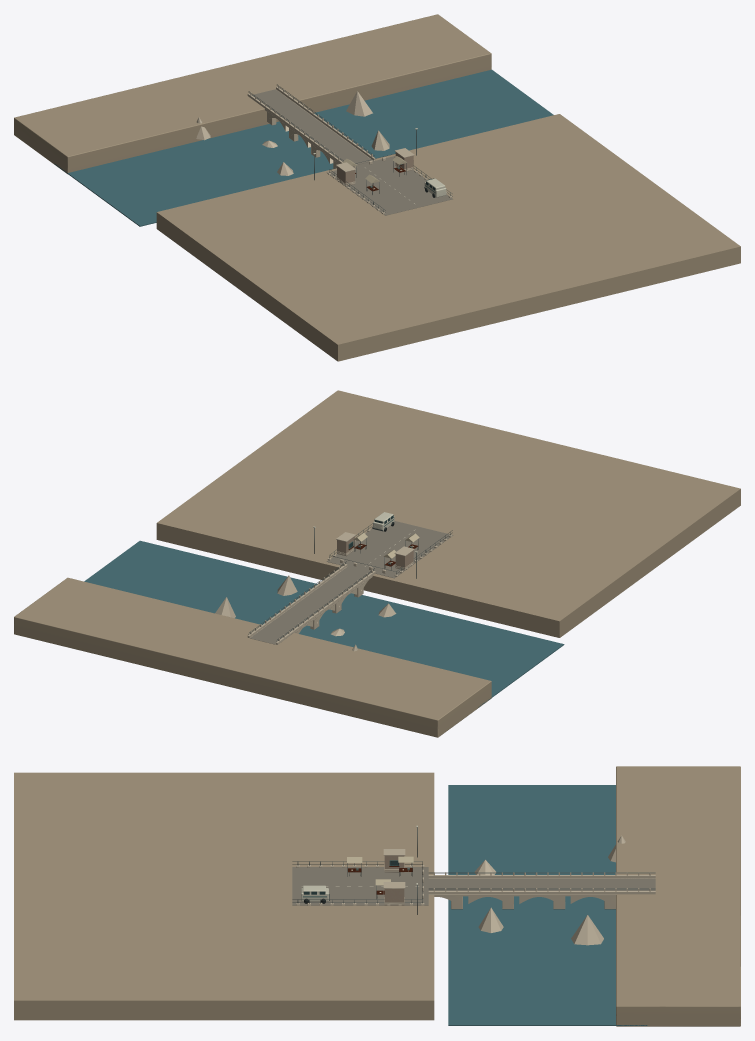
The model's file is bridge-v1.glb.
The picture shows the model from 3 angles, top to bottom: view 1: azimuth 30°, elevation 25°; view 2: azimuth 150°, elevation 25°; view 3: azimuth 270°, elevation 25°; orthographic projection. The views are drawn at different scales.
Visible parts, largest first — view 1: bridge / Riverbank soil, bridge / River water, bridge / Packed gravel, bridge / Warm limestone, bridge / Iron; view 2: bridge / Riverbank soil, bridge / River water, bridge / Packed gravel, bridge / Warm limestone, bridge / Iron; view 3: bridge / Riverbank soil, bridge / River water, bridge / Packed gravel, bridge / Warm limestone, bridge / Iron, bridge / Lime plaster.
Part boxes in pixels (box(x1,y1,x2,y2)): bridge / Riverbank soil: box(14, 14, 740, 361); bridge / River water: box(54, 69, 553, 226); bridge / Packed gravel: box(252, 89, 452, 215); bridge / Warm limestone: box(196, 85, 452, 214); bridge / Iron: box(248, 84, 452, 212); bridge / Riverbank soil: box(14, 390, 740, 737); bridge / River water: box(84, 540, 564, 707); bridge / Packed gravel: box(250, 521, 453, 644); bridge / Warm limestone: box(215, 526, 452, 651); bridge / Iron: box(248, 523, 452, 641); bridge / Riverbank soil: box(14, 766, 740, 1026); bridge / River water: box(448, 785, 647, 1025); bridge / Packed gravel: box(292, 867, 655, 905); bridge / Warm limestone: box(296, 835, 655, 945); bridge / Iron: box(292, 827, 655, 914); bridge / Lime plaster: box(384, 855, 404, 905).
Size of the model in its own units: 100 by 10.07 by 128.
Materials: 14 (2 with a texture image).
